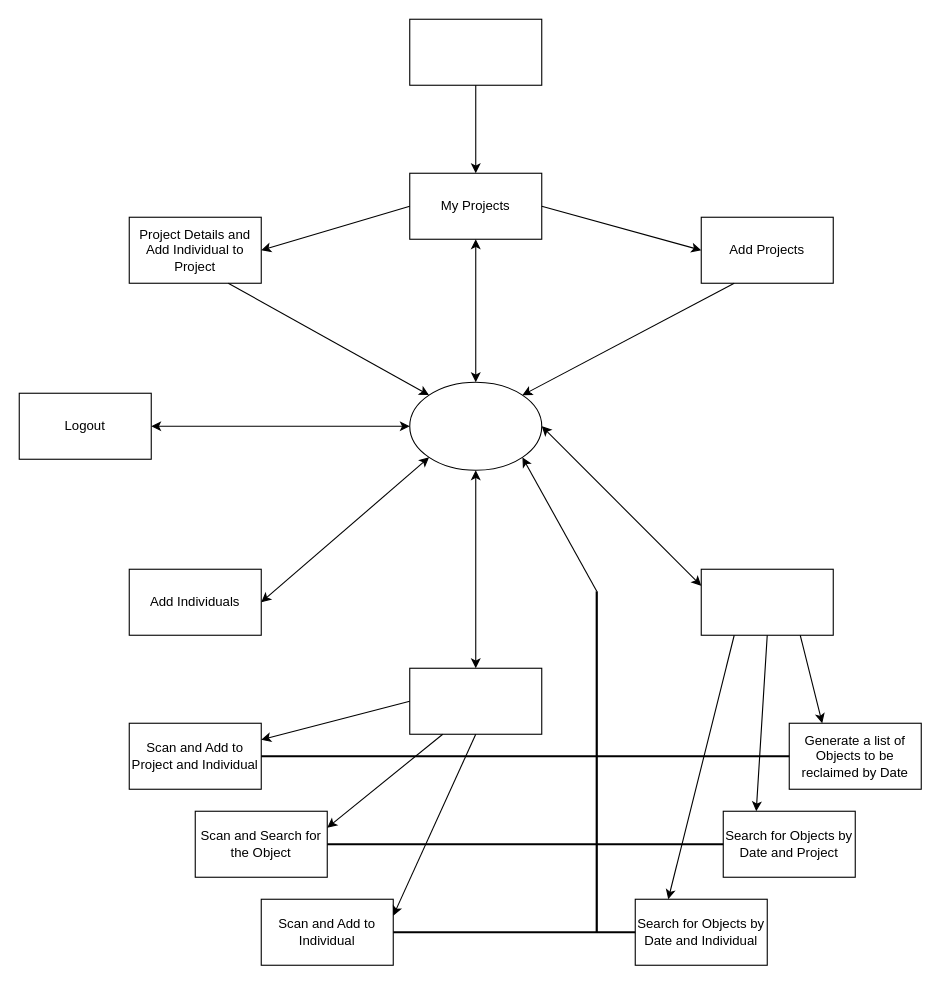
This 941x985 diagram has some shape labels left out. Here are the shapes that lost their labels. From the top down, the centre of each, then its label:
(475,51): Login
(475,425): Navigation Bar
(766,601): Search
(475,700): Scanner
